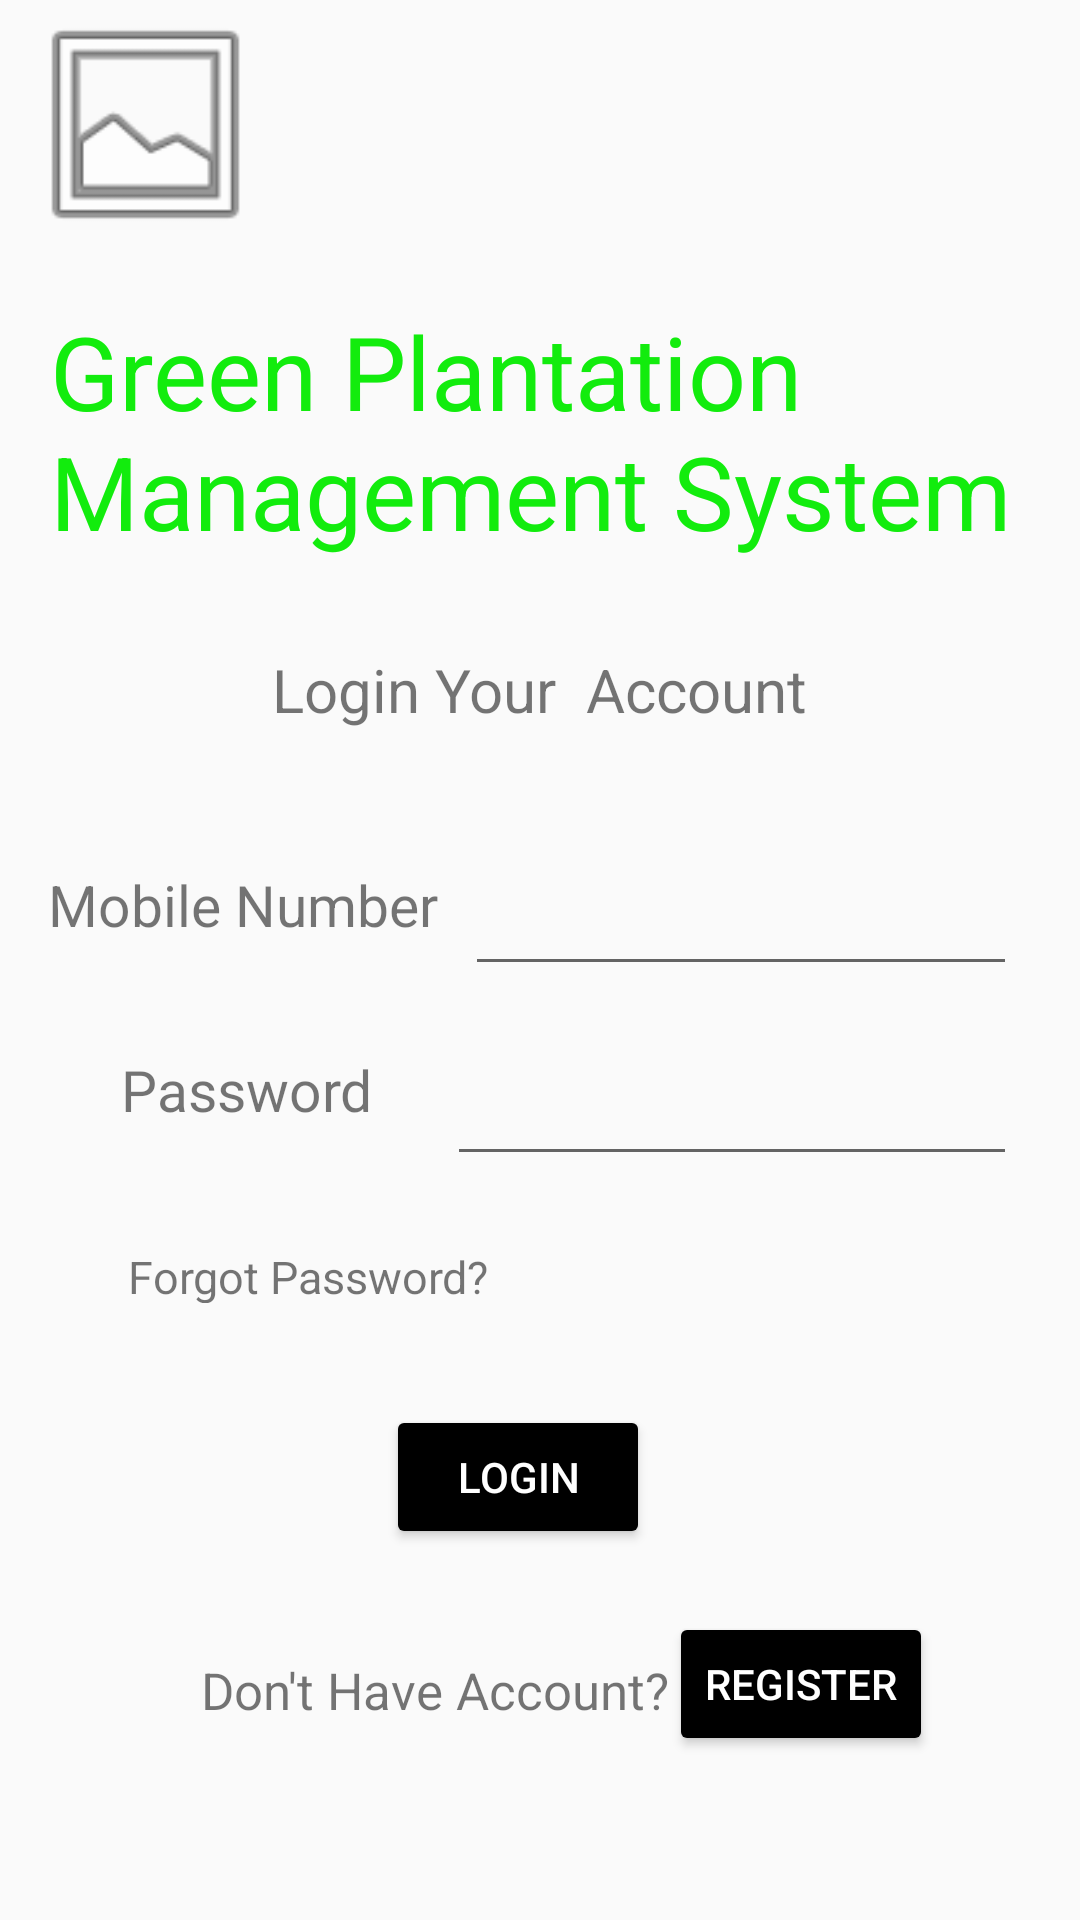

Icon bounding boxes for this 1080px x 1920px phone screenshot, format box(x1, y1, x2, y2):
gallery: box(52, 30, 239, 219)
